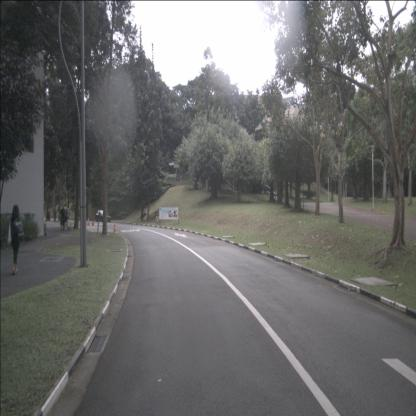cone: (113, 221, 116, 234), (87, 217, 90, 226), (92, 218, 94, 226)
